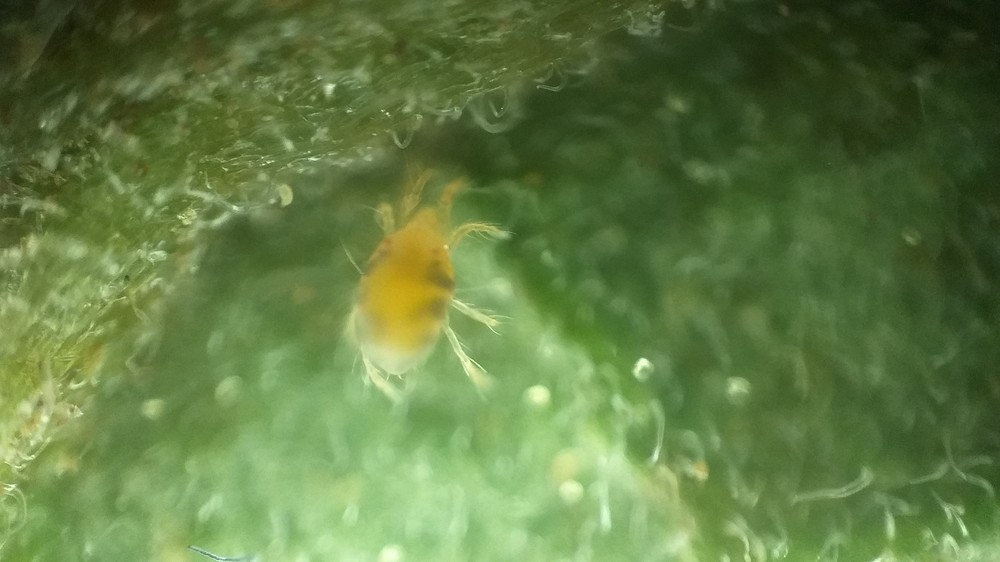Aracnido Rojo: (304, 156, 544, 416)
